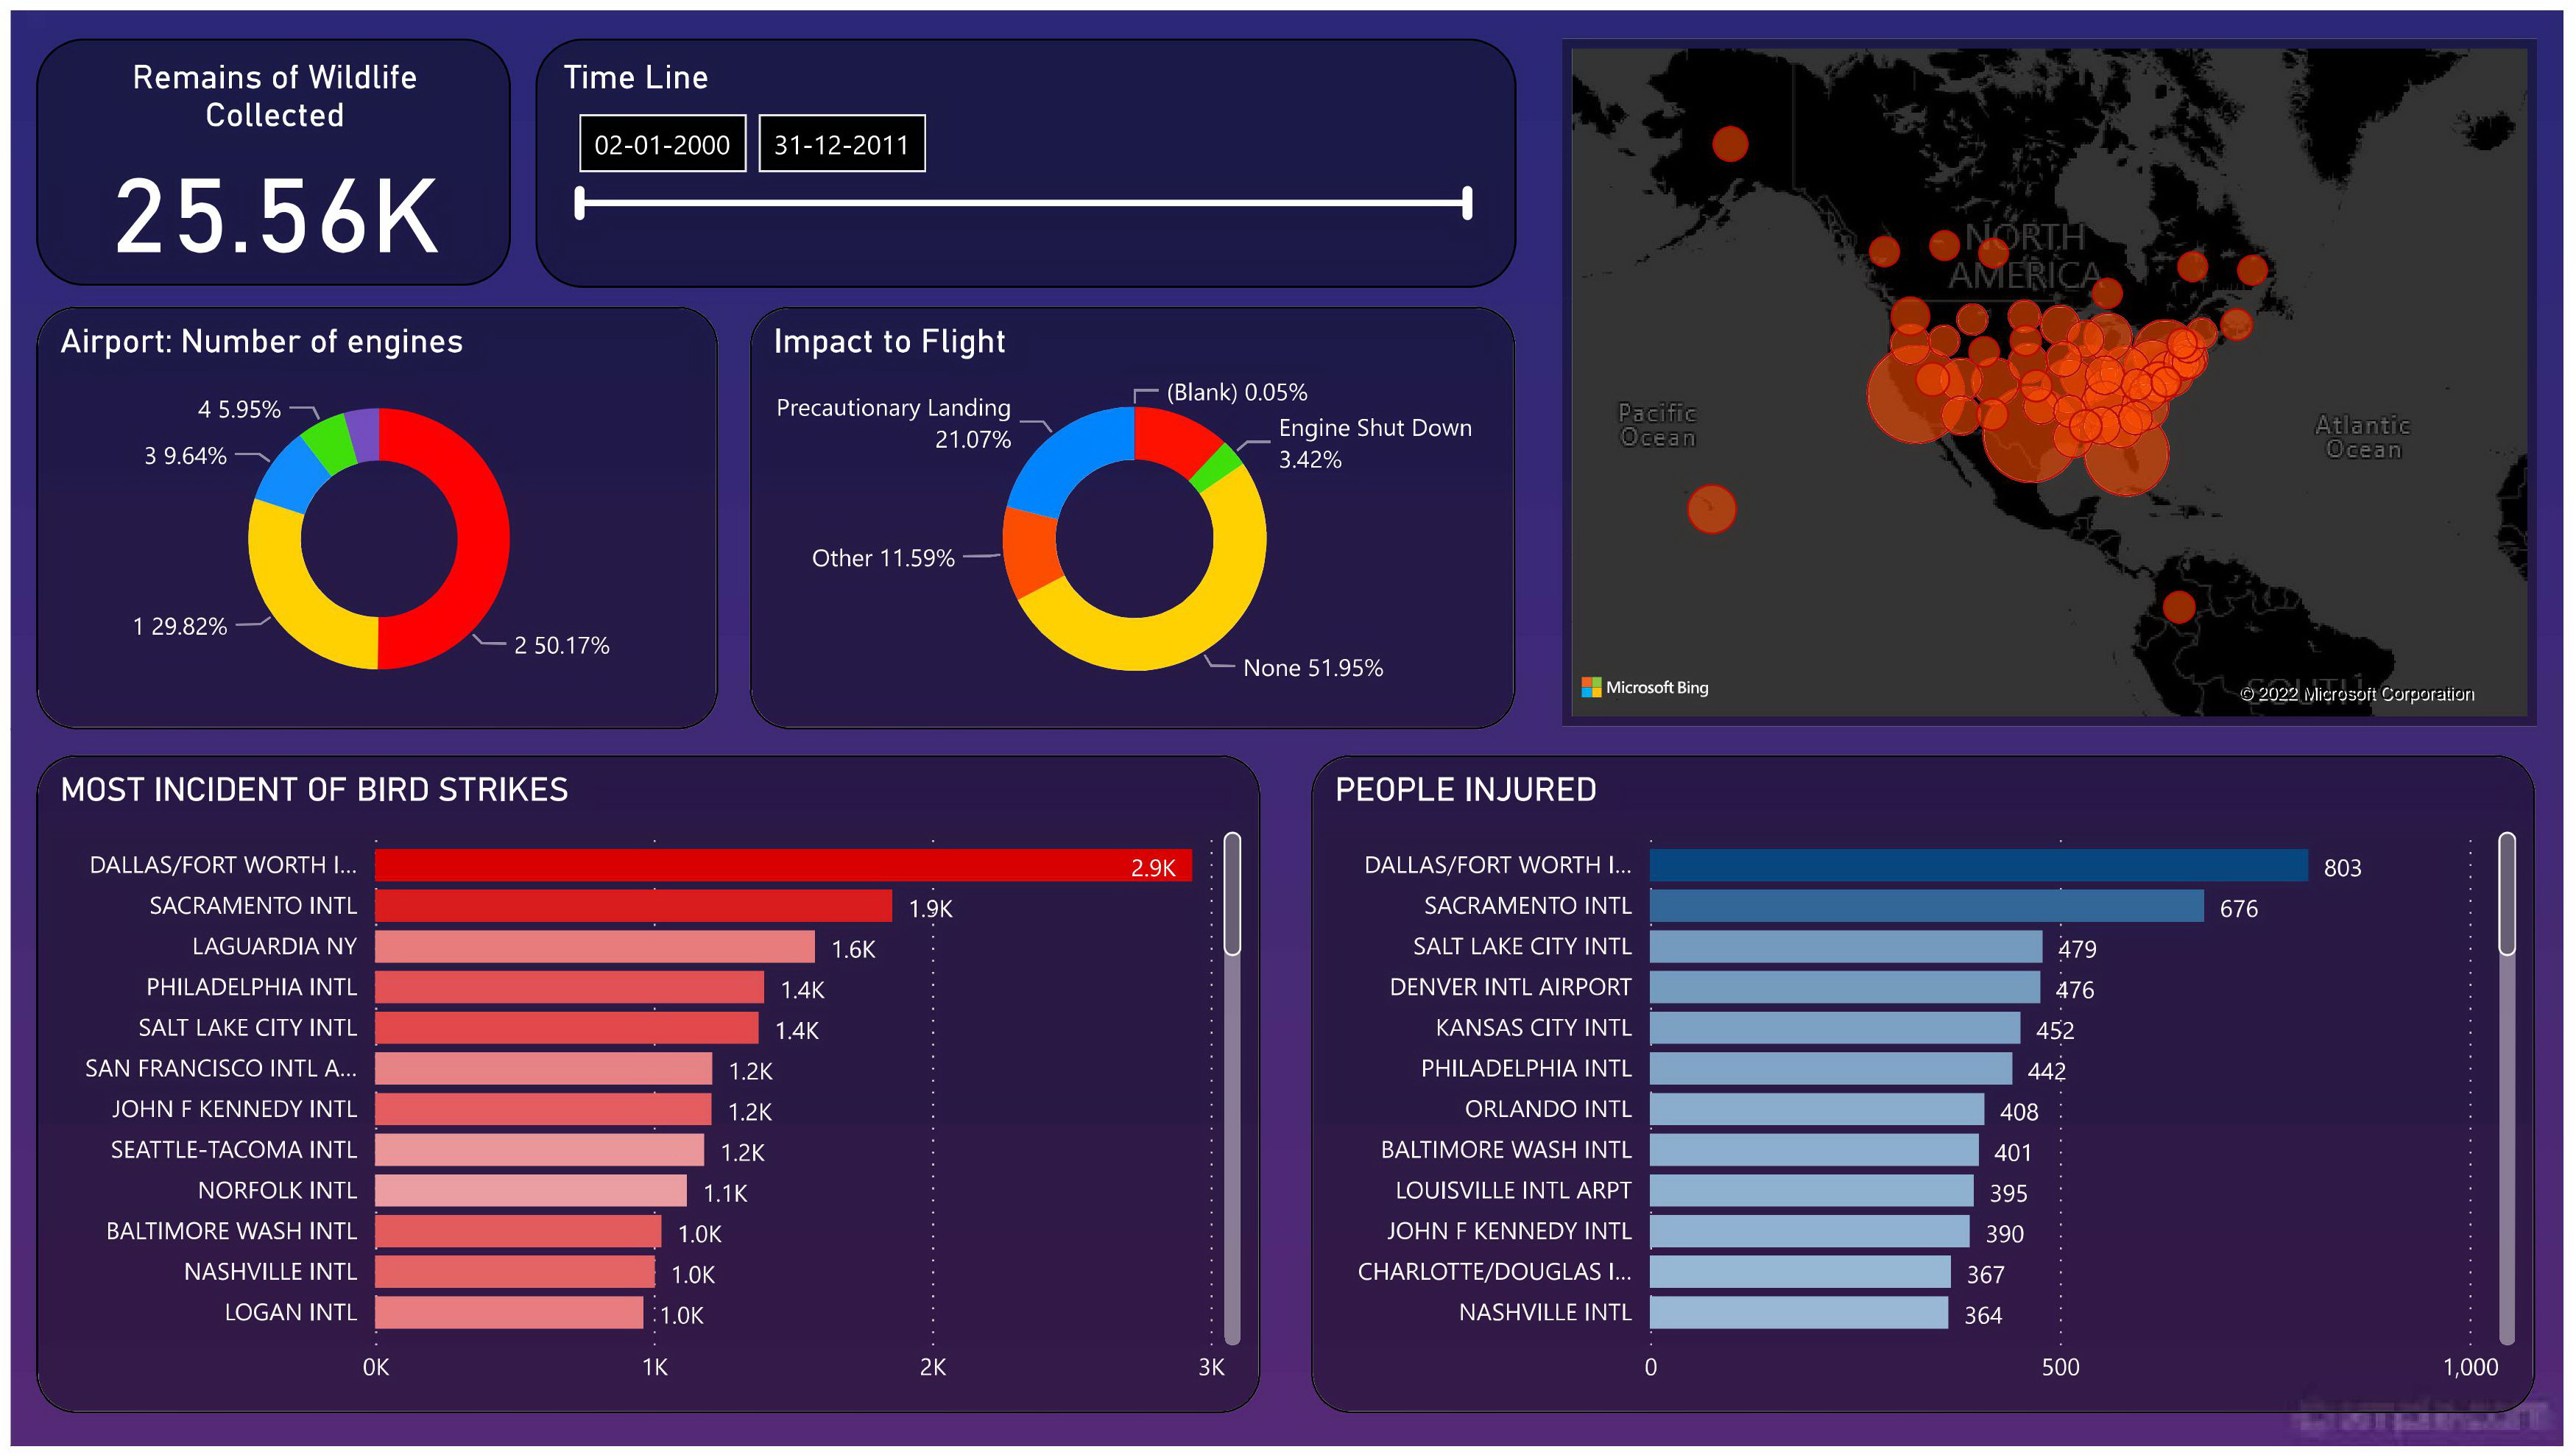

Layout of this report page (visuals, bound fields, positions):
{"tool":"powerbi","page":{"name":"Page 2","canvas":[1280,720],"ordinal":1},"visuals":[{"type":"barChart","title":"MOST INCIDENT OF BIRD STRIKES","fields":{"Category":["Bird Strikes.Airport: Name"],"Y":["Sum(Bird Strikes.Wildlife: Number Struck Actual)"]},"box":[12.7,373.4,613.9,329.6],"z":0},{"type":"barChart","title":"PEOPLE INJURED","fields":{"Category":["Bird Strikes.Airport: Name"],"Y":["CountNonNull(Bird Strikes.Number of people injured)"]},"box":[652.1,373.4,613.9,329.6],"z":1000},{"type":"map","fields":{"Category":["Bird Strikes.Origin State"],"Size":["CountNonNull(Bird Strikes.Airport: Name)"]},"box":[777.7,14.7,489,344.7],"z":2000},{"type":"donutChart","title":"Airport: Number of engines","fields":{"Y":["Count(Bird Strikes.Airport: Name)"],"Category":["Bird Strikes.Aircraft: Number of engines?"]},"box":[13.3,148.8,341.7,212.1],"z":3000},{"type":"card","title":"Remains of Wildlife Collected","fields":{"Values":["CountNonNull(Bird Strikes.Remains of wildlife collected?)"]},"box":[12.7,14.1,237.6,124.5],"z":4000},{"type":"donutChart","title":"Impact to Flight","fields":{"Y":["Count(Bird Strikes.Airport: Name)"],"Series":["Bird Strikes.Effect: Impact to flight"]},"box":[371.2,148.8,384.4,212.1],"z":7001},{"type":"slicer","title":"Time Line","fields":{"Values":["Bird Strikes.FlightDate"]},"box":[263.7,14.7,492,125.2],"z":7002}]}

Visuals, with their boxes in screenshot pixels (x1, y1, x2, y2), scaled from the page's 1280x720 canvas onto the 2576x1455 screenshot:
"MOST INCIDENT OF BIRD STRIKES" barChart: BBox(26, 755, 1261, 1420)
"PEOPLE INJURED" barChart: BBox(1313, 755, 2548, 1420)
map - Bird Strikes.Origin State x CountNonNull(Bird Strikes.Airport: Name): BBox(1565, 29, 2549, 726)
"Airport: Number of engines" donutChart: BBox(27, 300, 714, 729)
"Remains of Wildlife Collected" card: BBox(26, 29, 504, 280)
"Impact to Flight" donutChart: BBox(747, 300, 1521, 729)
"Time Line" slicer: BBox(531, 29, 1521, 283)
